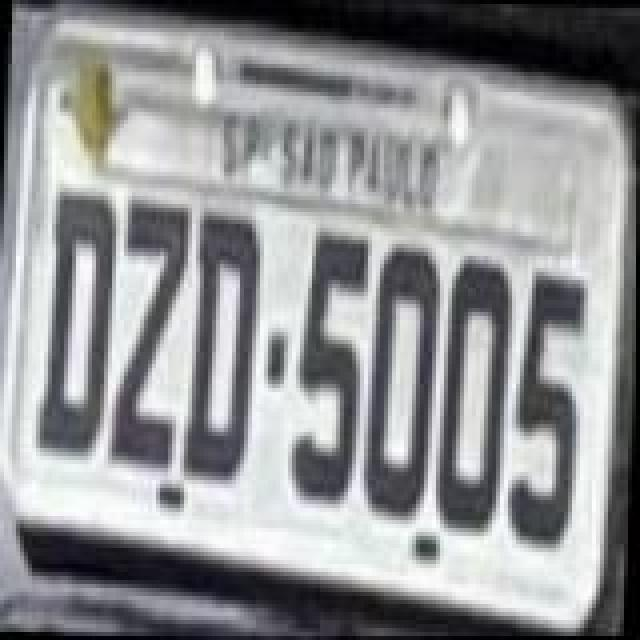5: (286, 224, 374, 508), (506, 262, 594, 546)
D: (32, 182, 120, 458), (176, 208, 260, 484)
O: (362, 244, 442, 528), (434, 254, 514, 538)
Z: (106, 196, 190, 472)
